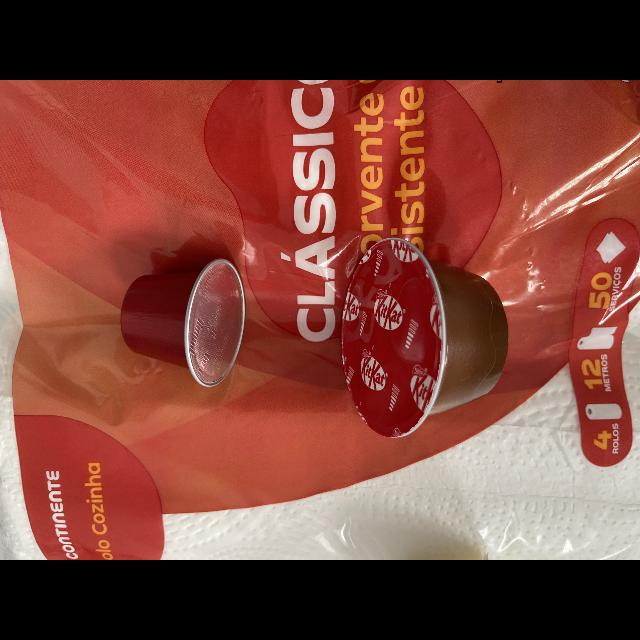intact_capsule: (330, 226, 520, 449), (107, 238, 249, 396)
